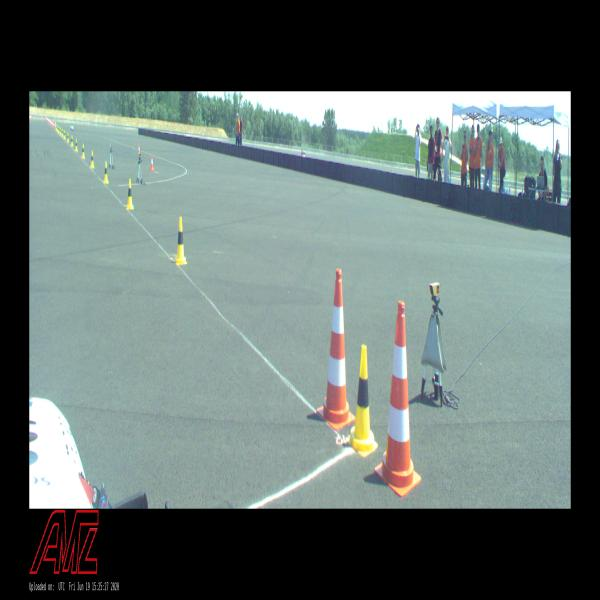large_orange_cone: (375, 301, 421, 497), (317, 269, 355, 431)
orange_cone: (150, 155, 154, 170), (138, 144, 140, 152)
yellow_cone: (347, 345, 378, 457), (174, 217, 187, 264), (126, 179, 134, 209), (103, 162, 109, 183), (90, 151, 95, 168), (82, 144, 85, 159), (75, 139, 78, 151), (67, 133, 70, 142), (71, 136, 73, 146), (64, 130, 66, 139), (62, 129, 63, 136), (60, 128, 61, 134), (58, 126, 59, 132)
